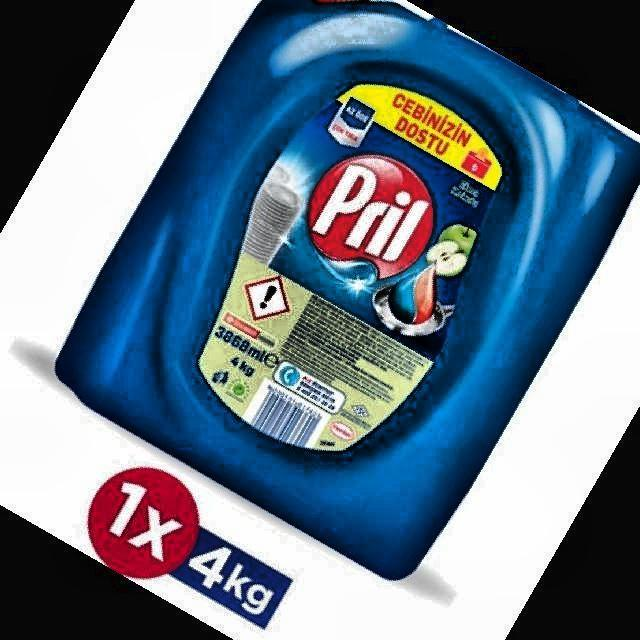plastic: (58, 0, 640, 578)
